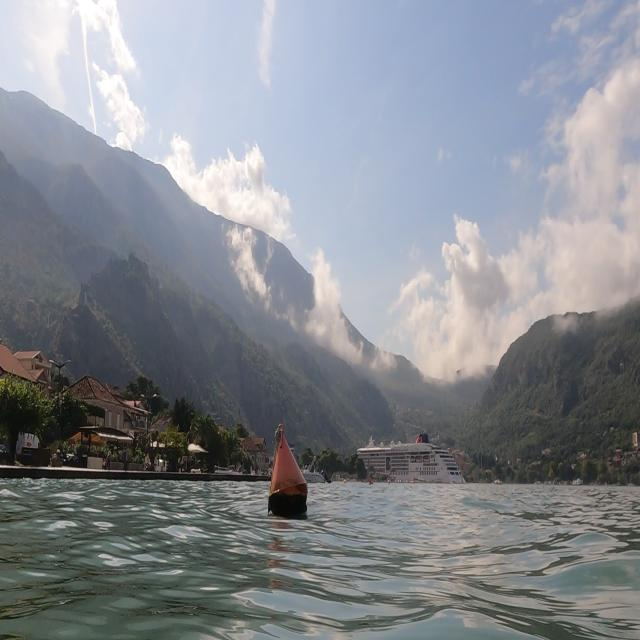boat: (354, 434, 472, 494)
buoy: (260, 415, 314, 529)
